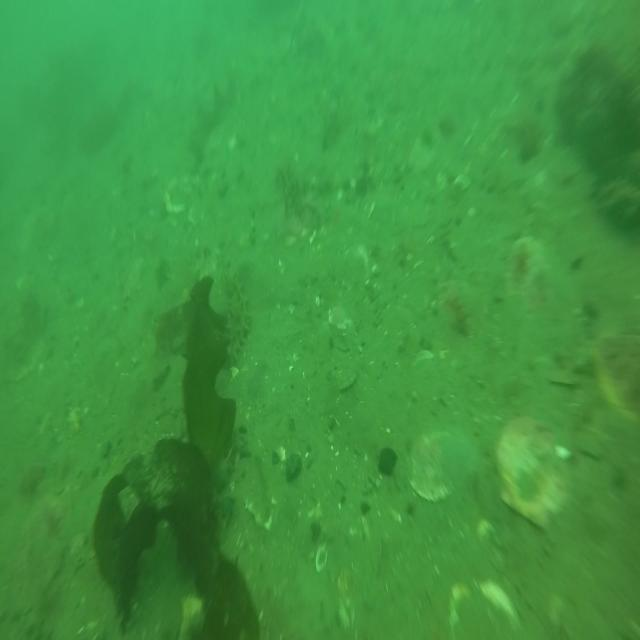holothurian: (223, 266, 249, 359)
scallop: (497, 417, 568, 532), (404, 425, 481, 498)
